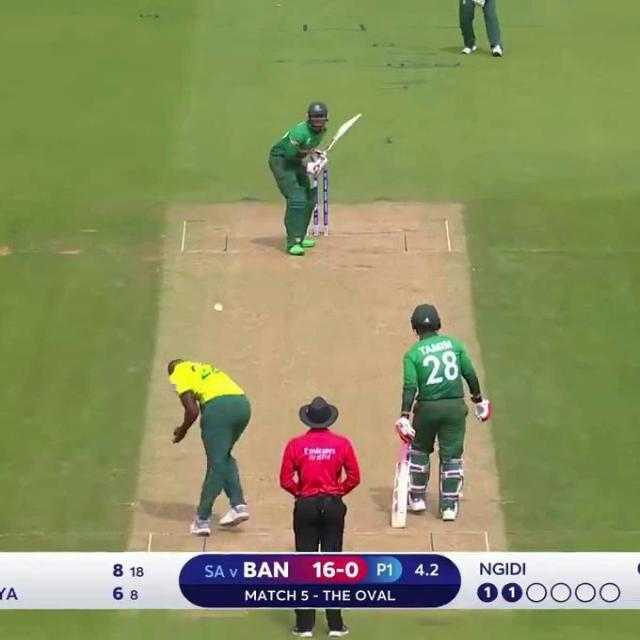bat: (327, 112, 362, 154), (391, 462, 412, 529)
toe: (391, 524, 406, 528)
